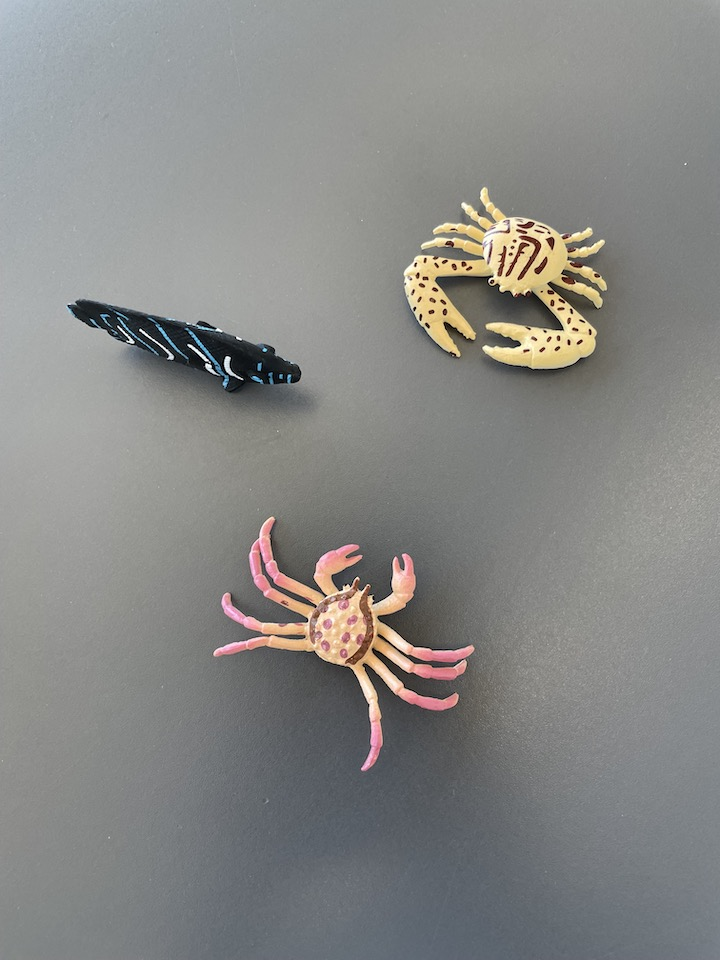crab: (208, 511, 480, 781), (398, 182, 614, 376)
fish: (58, 289, 306, 403)
